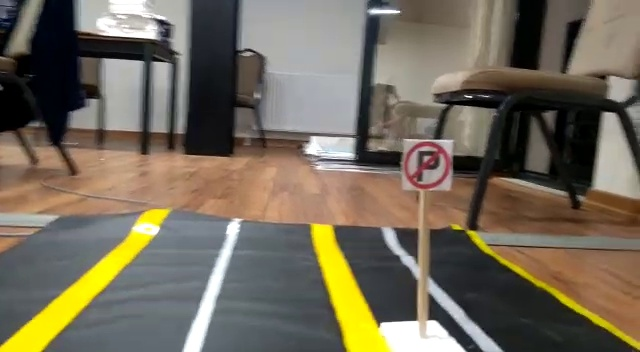park_yapilmaz: (399, 136, 456, 190)
